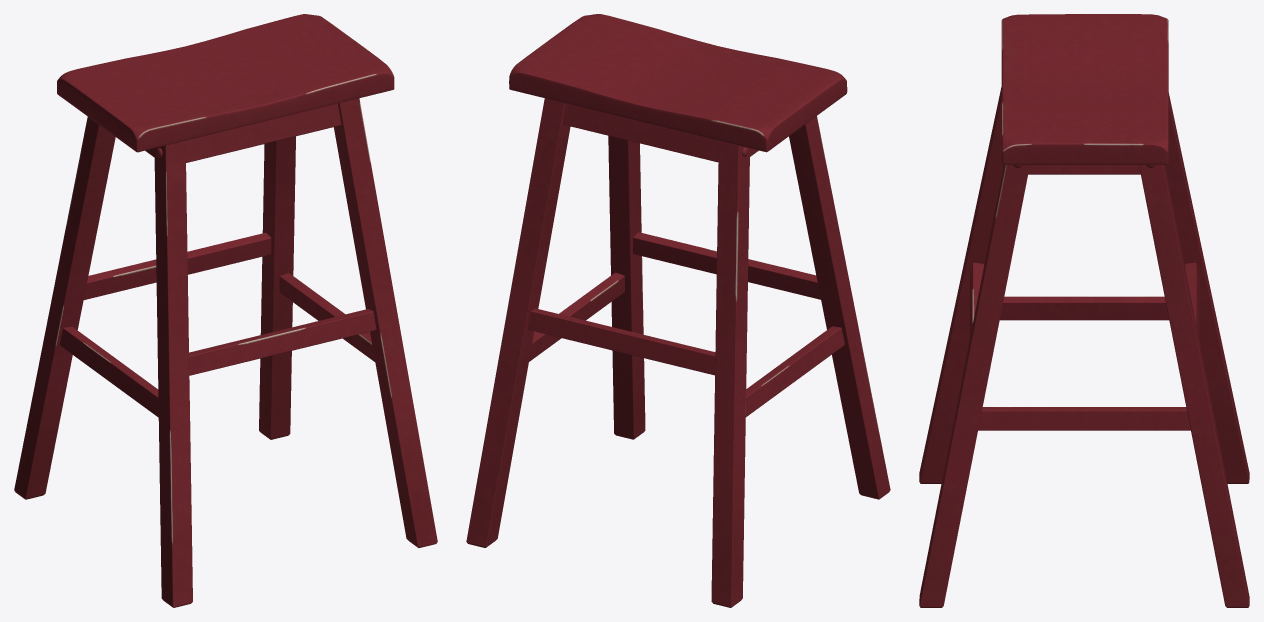
File: stool_B07B7B94NC.glb
3 views of the same model, side by side, from view 1: azimuth 30°, elevation 25°; view 2: azimuth 150°, elevation 25°; view 3: azimuth 270°, elevation 25° (orthographic). The views are drawn at different scales.
Parts seen in each view (by area): view 1: RootNode; view 2: RootNode; view 3: RootNode.
Part boxes in pixels (<box>): RootNode: <box>14,14,437,607</box>; RootNode: <box>466,14,890,607</box>; RootNode: <box>919,14,1249,607</box>.
Bounding box in the file's own units: 0.4575 × 0.7366 × 0.4759.
1 material, 1 textured.
